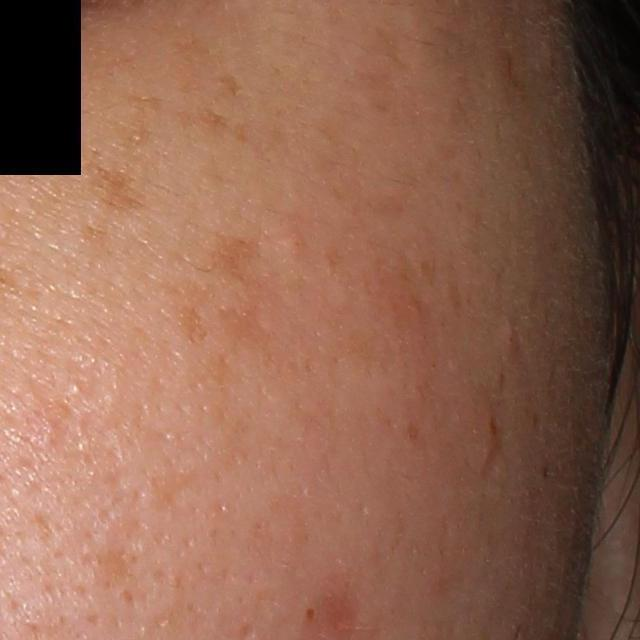comedo: (303, 603, 320, 625)
melasma: (71, 135, 158, 221), (212, 290, 280, 364), (203, 228, 264, 296), (173, 102, 255, 146), (118, 87, 169, 152), (180, 301, 207, 349), (217, 73, 245, 98)
